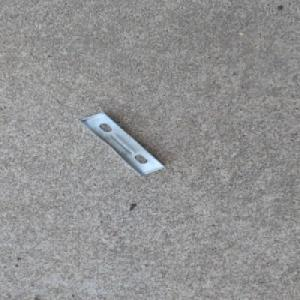ClampPart: (76, 109, 167, 176)
